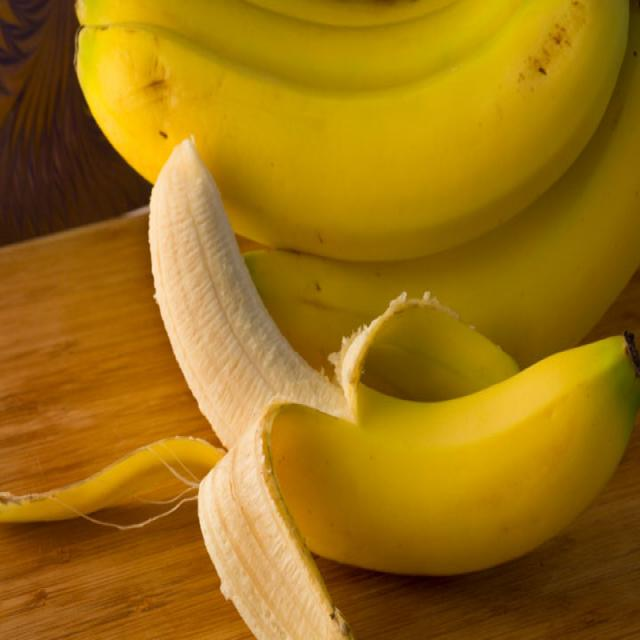banana: (142, 139, 640, 629), (69, 0, 640, 379)
